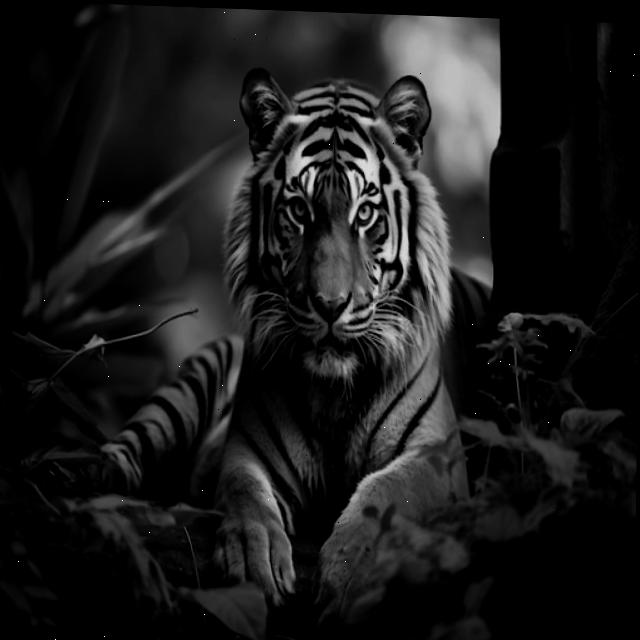Tiger: (19, 56, 495, 640)
